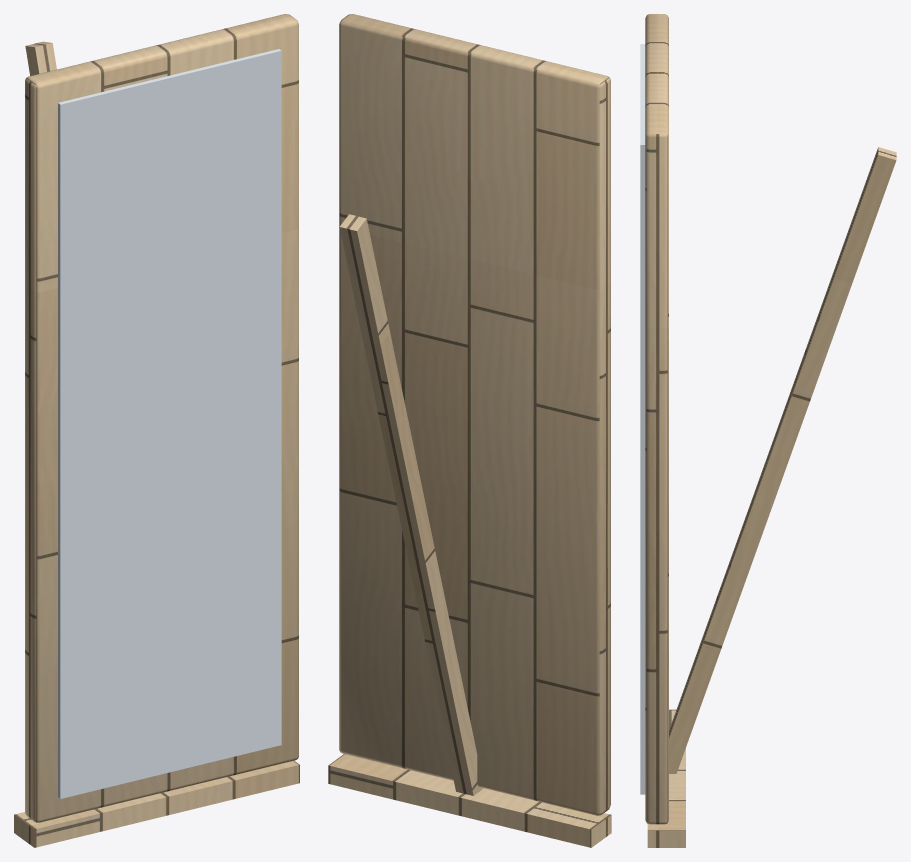
The picture shows the model from 3 angles, left to right: view 1: azimuth 30°, elevation 25°; view 2: azimuth 150°, elevation 25°; view 3: azimuth 270°, elevation 25°; orthographic projection. The views are drawn at different scales.
Parts seen in each view (by area): view 1: Decor_mirror_standing; view 2: Decor_mirror_standing; view 3: Decor_mirror_standing.
Part boxes in pixels (bbox=[...]): Decor_mirror_standing: bbox=[14, 14, 299, 847]; Decor_mirror_standing: bbox=[328, 14, 611, 847]; Decor_mirror_standing: bbox=[640, 14, 896, 847].
Size of the model in its own units: 0.6 by 1.65 by 0.5358.
Materials: 2 (1 with a texture image).
